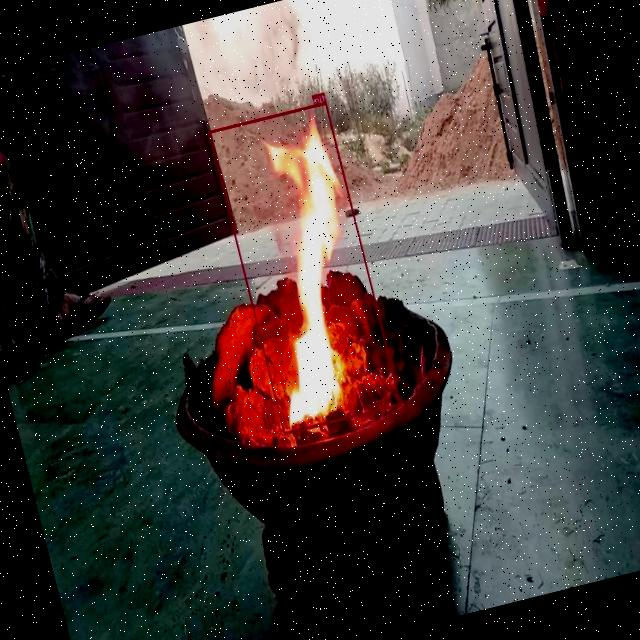fire: (208, 100, 402, 433)
